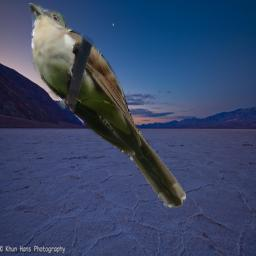Cuckoo: (29, 3, 186, 208)
